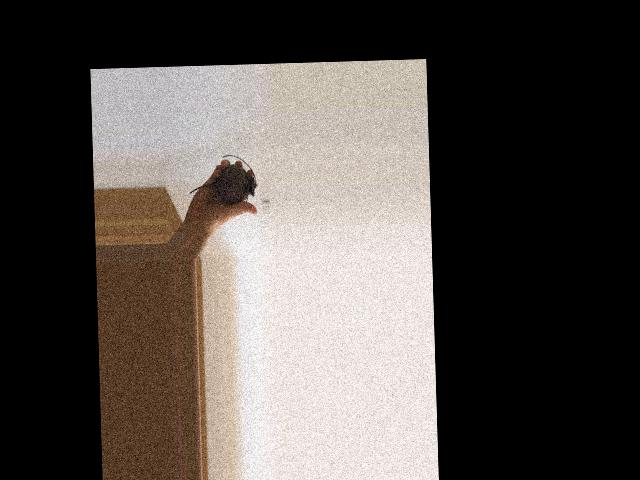beet: (188, 153, 257, 203)
